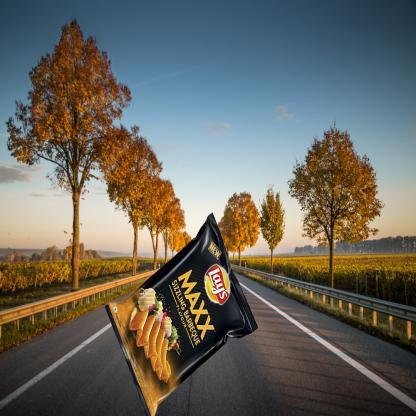maxx_sizzling_barbeque: (106, 220, 259, 389)
